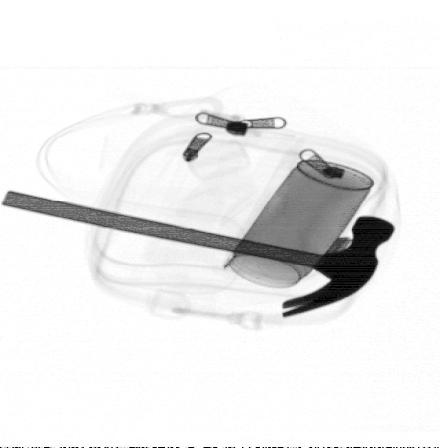Hammer: (1, 189, 395, 318)
